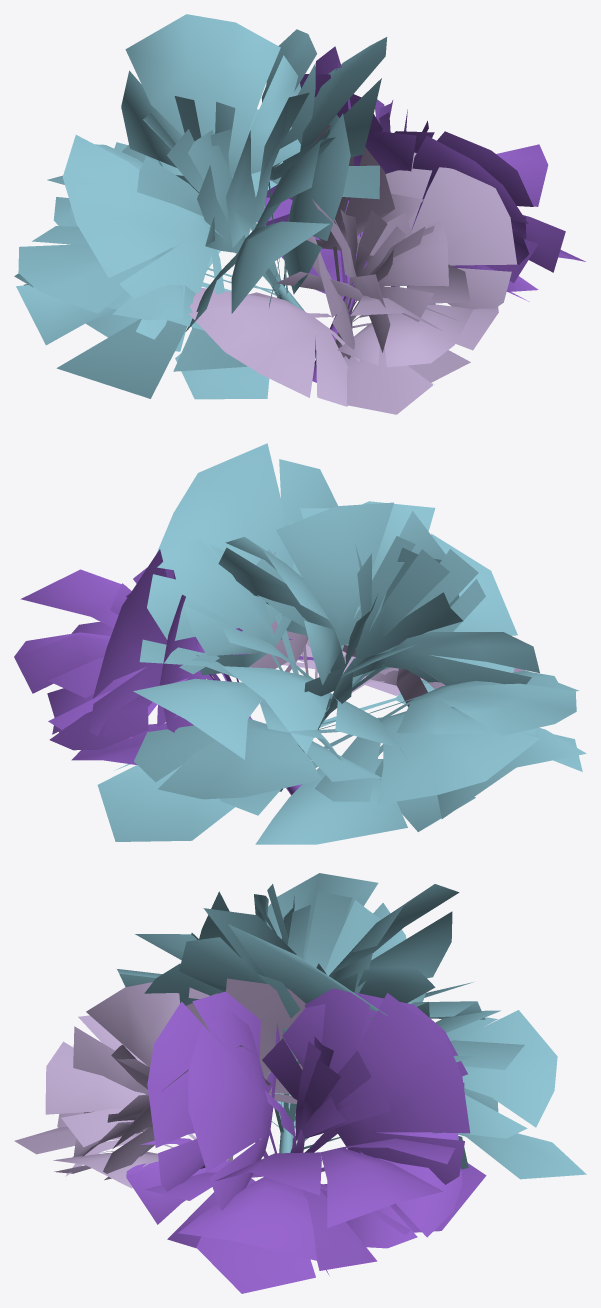
The picture shows the model from 3 angles, top to bottom: view 1: azimuth 30°, elevation 25°; view 2: azimuth 150°, elevation 25°; view 3: azimuth 270°, elevation 25°; orthographic projection.
Visible parts, largest first — view 1: SM_BS_FanPalm_200cm_HD; view 2: SM_BS_FanPalm_200cm_HD; view 3: SM_BS_FanPalm_200cm_HD.
Boxes of the visible parts, left/top/right/bottom form: SM_BS_FanPalm_200cm_HD: left=14, top=14, right=585, bottom=414; SM_BS_FanPalm_200cm_HD: left=14, top=443, right=586, bottom=844; SM_BS_FanPalm_200cm_HD: left=14, top=873, right=586, bottom=1293.
Bounding box in the file's own units: 138 × 152 × 89.36.
